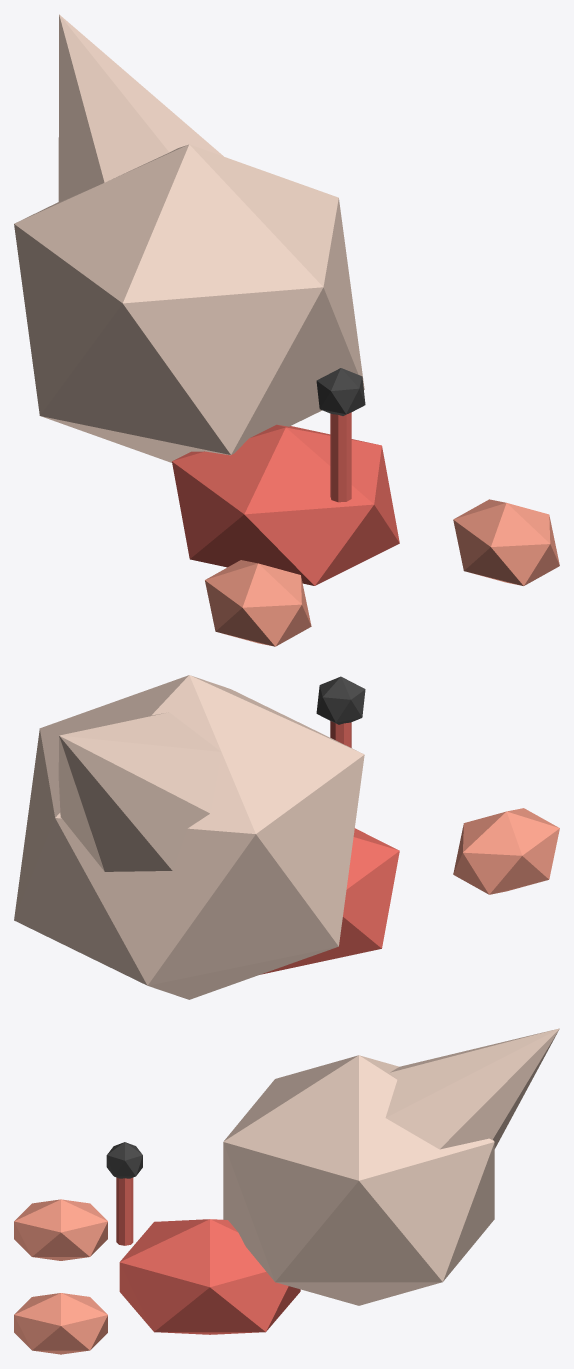
Rendered from HermitCrab.fbx.
The picture shows the model from 3 angles, top to bottom: view 1: azimuth 30°, elevation 25°; view 2: azimuth 150°, elevation 25°; view 3: azimuth 270°, elevation 25°; orthographic projection. The views are drawn at different scales.
Parts seen in each view (by area): view 1: Limb_Shell, Body, Limb_ClawR, Limb_ClawL, Limb_Eyes; view 2: Limb_Shell, Limb_ClawL, Body, Limb_Eyes; view 3: Limb_Shell, Body, Limb_ClawR, Limb_ClawL, Limb_Eyes.
Part boxes in pixels (bbox=[...]): Limb_Shell: bbox=[14, 14, 364, 462]; Body: bbox=[172, 424, 399, 585]; Limb_ClawR: bbox=[453, 499, 559, 585]; Limb_ClawL: bbox=[205, 560, 311, 646]; Limb_Eyes: bbox=[316, 368, 365, 502]; Limb_Shell: bbox=[14, 675, 364, 999]; Limb_ClawL: bbox=[453, 808, 559, 894]; Body: bbox=[260, 828, 399, 974]; Limb_Eyes: bbox=[316, 676, 365, 747]; Limb_Shell: bbox=[223, 1028, 559, 1305]; Body: bbox=[119, 1219, 300, 1334]; Limb_ClawR: bbox=[14, 1293, 107, 1354]; Limb_ClawL: bbox=[14, 1199, 107, 1260]; Limb_Eyes: bbox=[106, 1142, 142, 1245].
Bounding box in the file's own units: 0.6989 × 0.7946 × 1.28.
